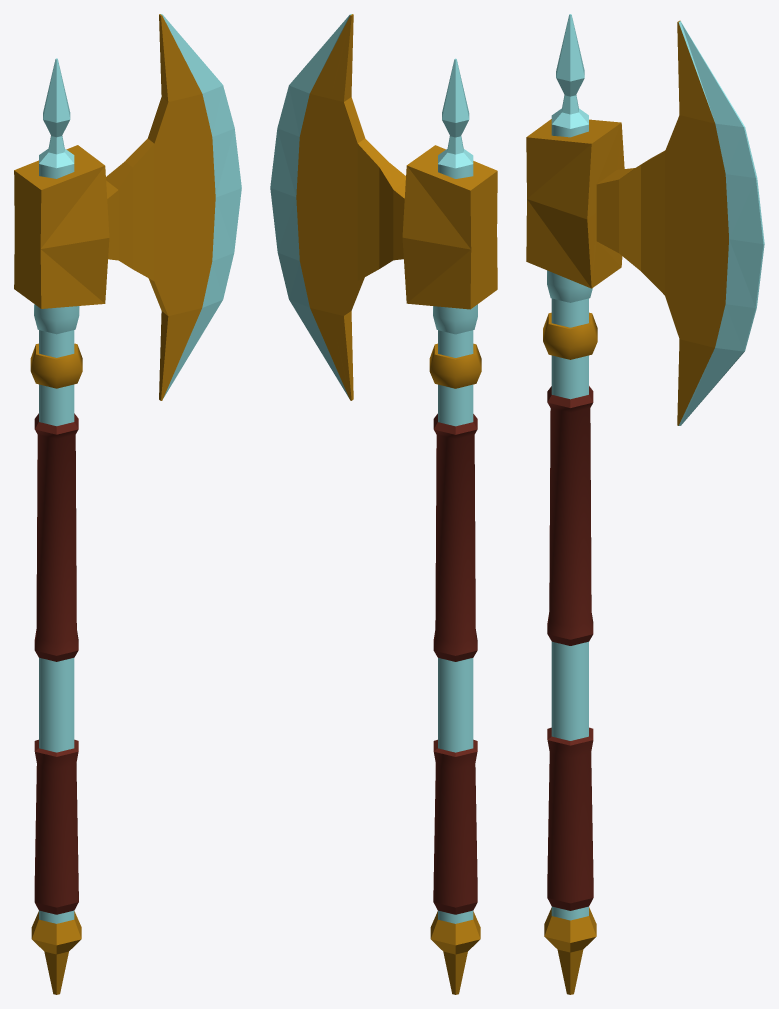
The model's file is Axe2.fbx.
The picture shows the model from 3 angles, left to right: view 1: azimuth 30°, elevation 25°; view 2: azimuth 150°, elevation 25°; view 3: azimuth 330°, elevation 25°; orthographic projection. The views are drawn at different scales.
Parts seen in each view (by area): view 1: Axe2; view 2: Axe2; view 3: Axe2.
Part boxes in pixels (bbox=[...]): Axe2: bbox=[14, 14, 241, 994]; Axe2: bbox=[270, 14, 497, 994]; Axe2: bbox=[526, 14, 764, 994].
Bounding box in the file's own units: 0.306 × 1.3 × 0.0901.
